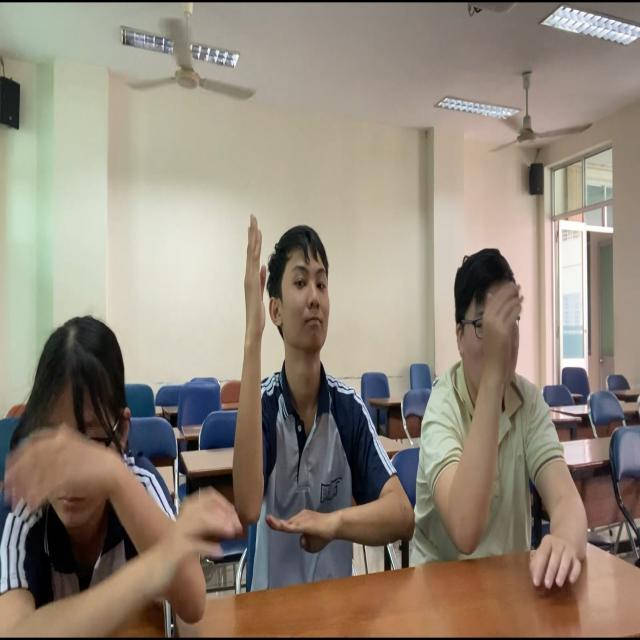raise_hand: (235, 205, 364, 576)
